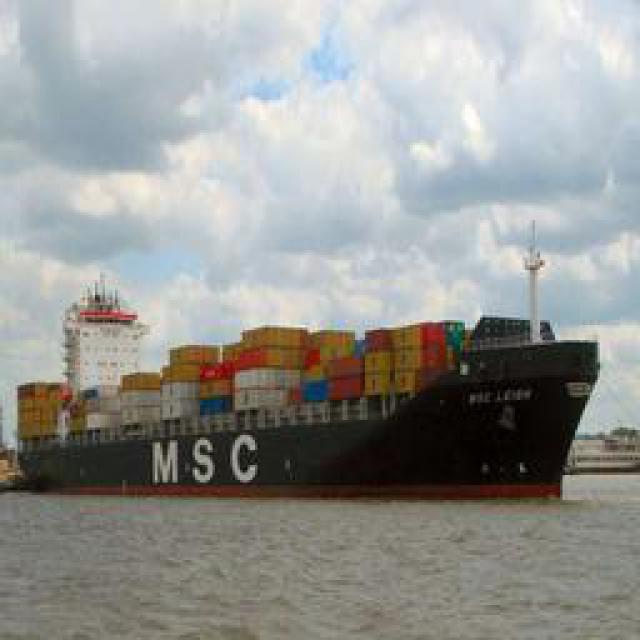Ship: (14, 291, 604, 494)
